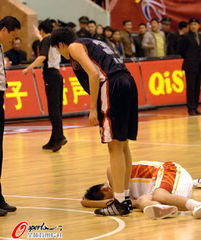10+: (1, 13, 201, 216)
down: (78, 154, 201, 220)
